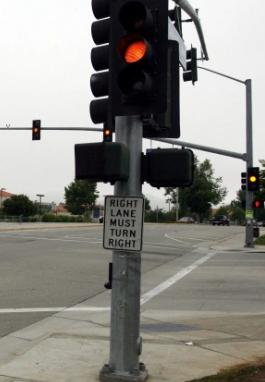yellow_light: (113, 0, 168, 116), (248, 167, 260, 190), (103, 124, 112, 142), (33, 120, 41, 140)
